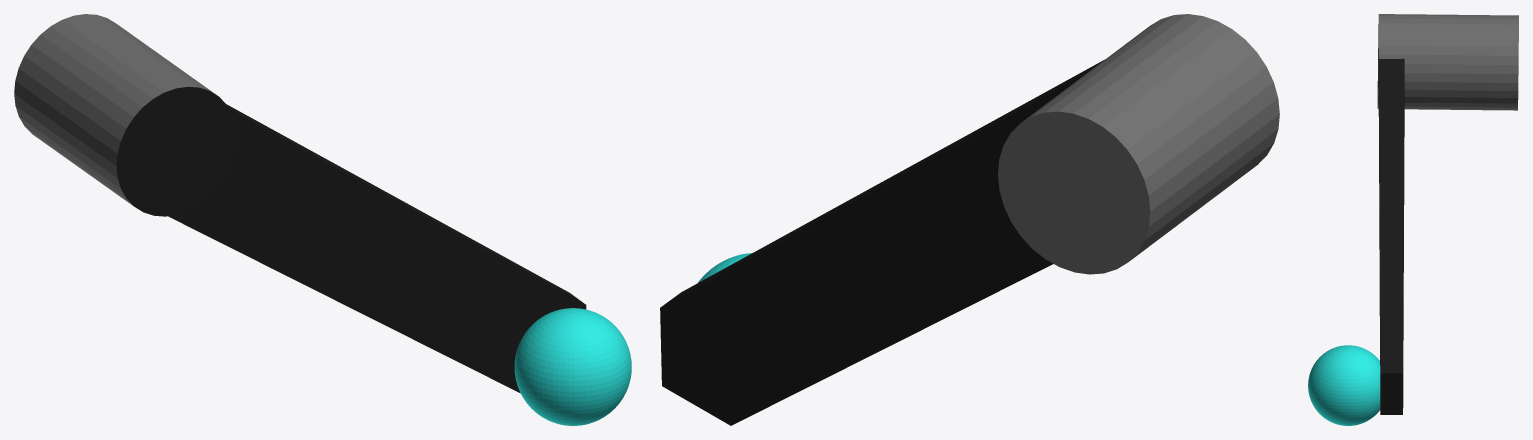
The model's file is handle.fbx.
3 views of the same model, side by side, from view 1: azimuth 30°, elevation 25°; view 2: azimuth 150°, elevation 25°; view 3: azimuth 270°, elevation 25° (orthographic). The views are drawn at different scales.
Parts seen in each view (by area): view 1: Cube.004, Cylinder, Sphere; view 2: Cube.004, Cylinder; view 3: Cylinder, Cube.004, Sphere.
Boxes of the visible parts, bbox=[...] form: Cube.004: bbox=[168, 97, 586, 393]; Cylinder: bbox=[14, 14, 236, 216]; Sphere: bbox=[514, 308, 631, 425]; Cube.004: bbox=[660, 60, 1103, 425]; Cylinder: bbox=[998, 14, 1279, 274]; Cylinder: bbox=[1377, 14, 1518, 110]; Cube.004: bbox=[1378, 58, 1404, 414]; Sphere: bbox=[1308, 345, 1380, 425].
Bounding box in the file's own units: 67.53 × 54.15 × 37.11.
